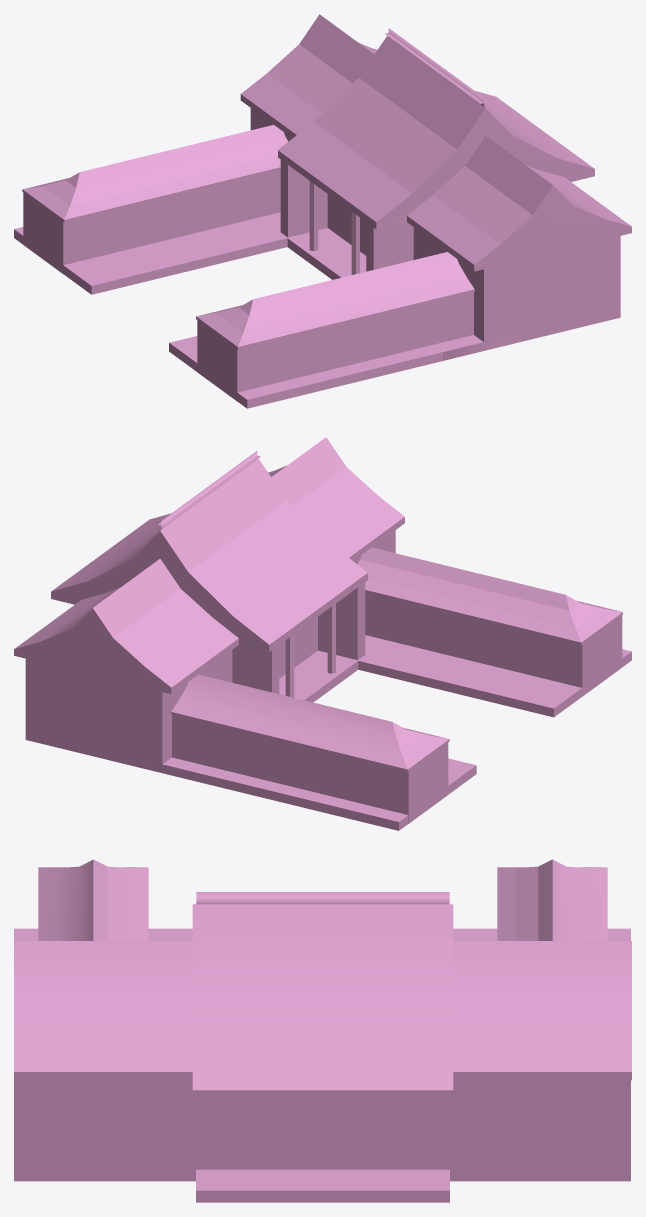
Rendered from chin_cc.dae.
3 views of the same model, one above another, from view 1: azimuth 30°, elevation 25°; view 2: azimuth 150°, elevation 25°; view 3: azimuth 270°, elevation 25° (orthographic). The views are drawn at different scales.
Parts seen in each view (by area): view 1: Object02; view 2: Object02; view 3: Object02.
Boxes of the visible parts, x1=… form: Object02: x1=14, y1=14, x2=631, y2=408; Object02: x1=14, y1=437, x2=631, y2=830; Object02: x1=14, y1=859, x2=631, y2=1202.
Bounding box in the file's own units: 48.66 × 47.4 × 20.79.
